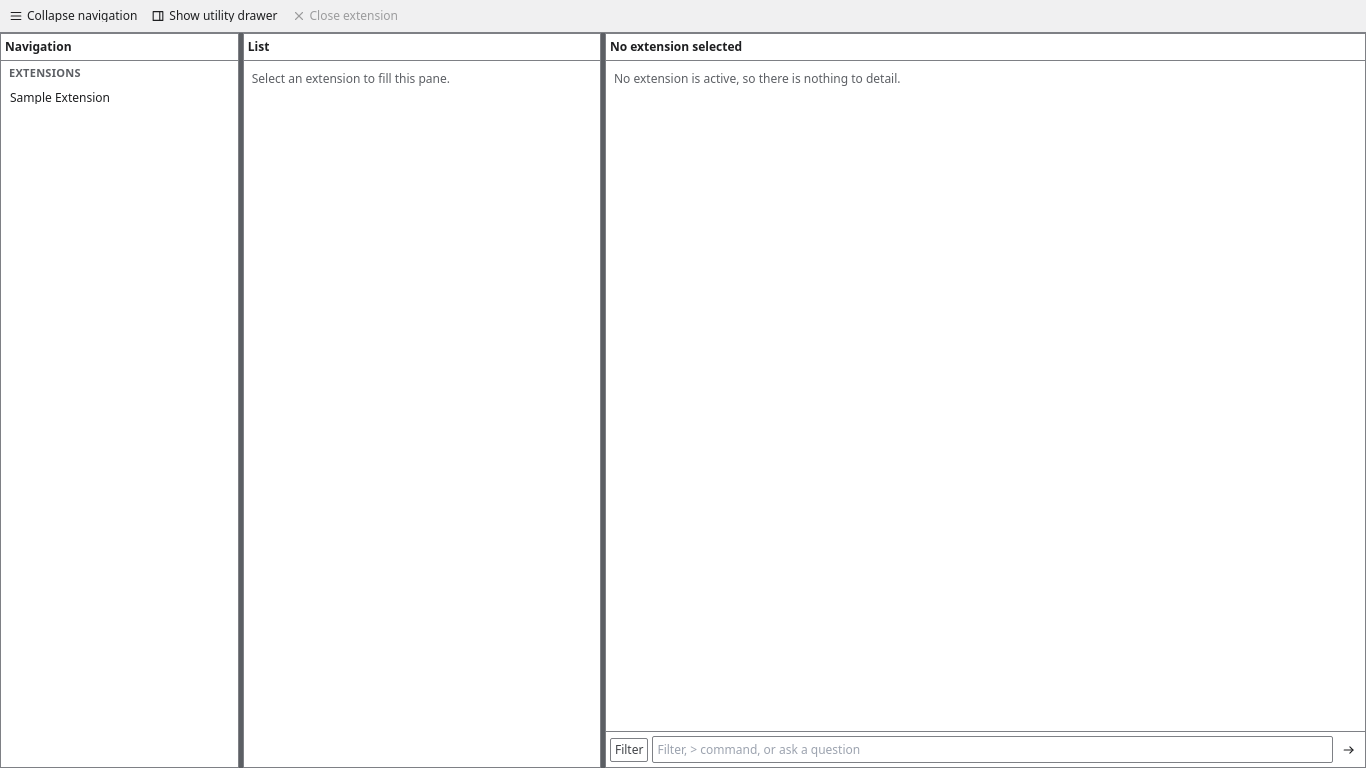
Test case: ShellLayout — pane 1 collapse › keeps the accessible name of every pane-1 entry in both states
Click the button "Sample Extension": (119, 98) [5,86,234,110]
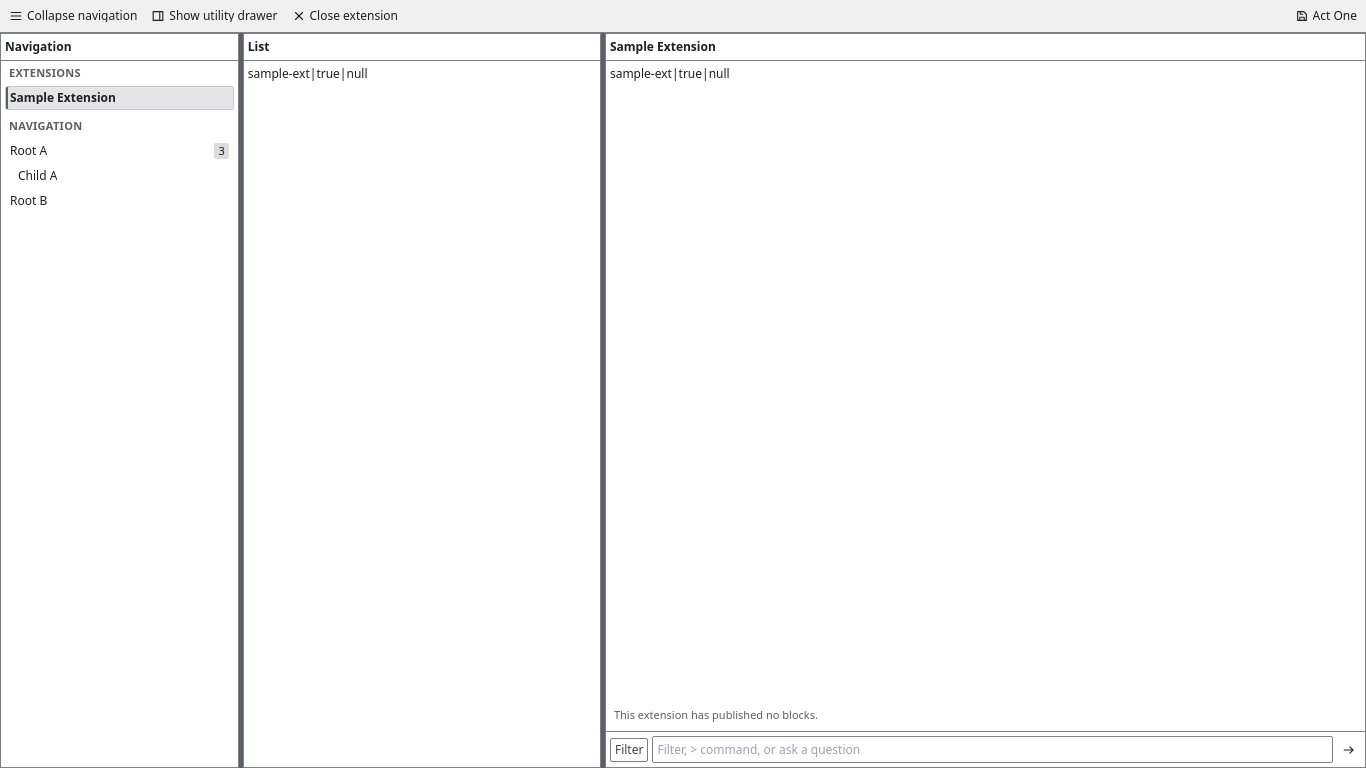
Now the button "Root B" is shown, box [5,189,234,213]
Now the button named "Root A badge 3" is shown, box [5,138,234,164]
Click the button "Collapse navigation": (73, 16) [4,4,142,28]
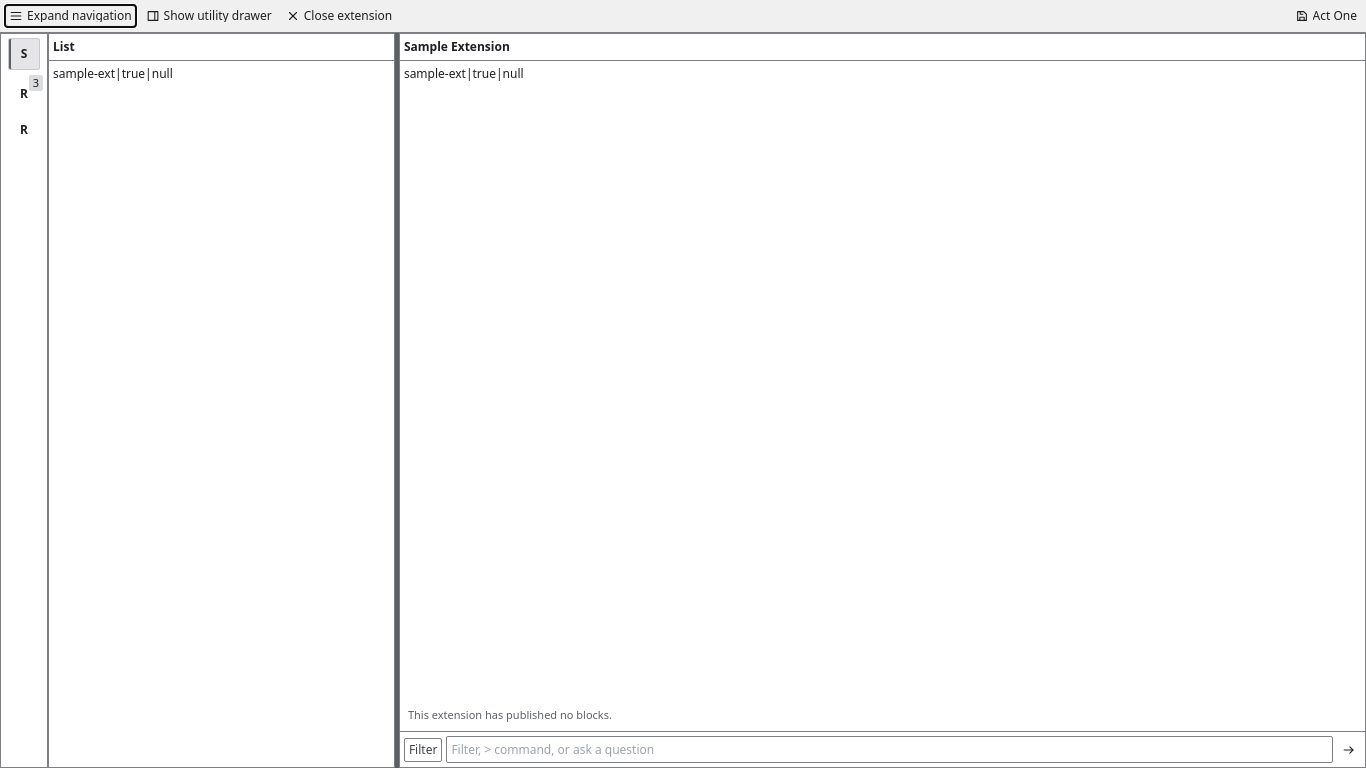
Now the button named "Root B" is shown, box [8,114,40,146]
Now the button named "Root A badge 3" is shown, box [8,78,40,110]
Now the button "Child A" is gone
